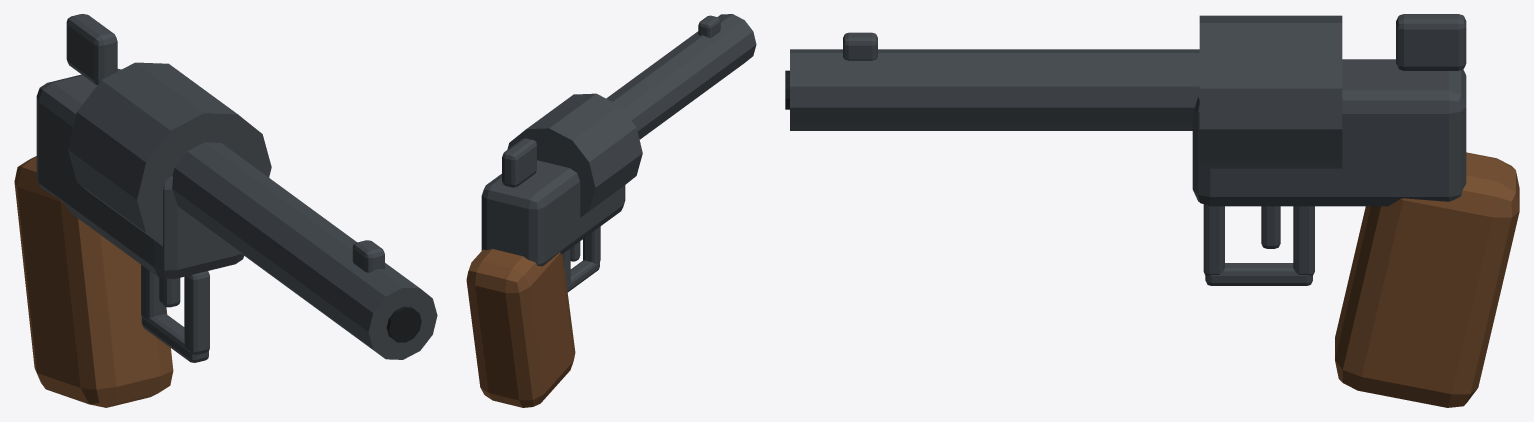
File: revolver.glb
The picture shows the model from 3 angles, left to right: view 1: azimuth 30°, elevation 25°; view 2: azimuth 150°, elevation 25°; view 3: azimuth 270°, elevation 25°; orthographic projection. The views are drawn at different scales.
Parts seen in each view (by area): view 1: steel frame, walnut grip, muzzle bore; view 2: steel frame, walnut grip; view 3: steel frame, walnut grip.
Boxes of the visible parts, x1,y1,x2,y2 form: steel frame: [36, 14, 437, 362]; walnut grip: [14, 156, 173, 407]; muzzle bore: [386, 306, 421, 342]; steel frame: [481, 14, 756, 292]; walnut grip: [466, 249, 575, 407]; steel frame: [790, 14, 1466, 285]; walnut grip: [1335, 152, 1519, 407].
Bounding box in the file's own units: 0.082 × 0.214 × 0.3758.
